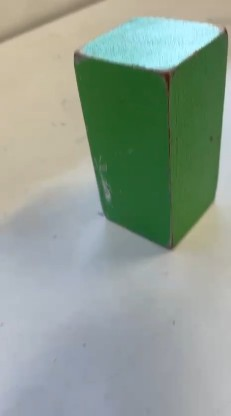green: (80, 19, 224, 236)
